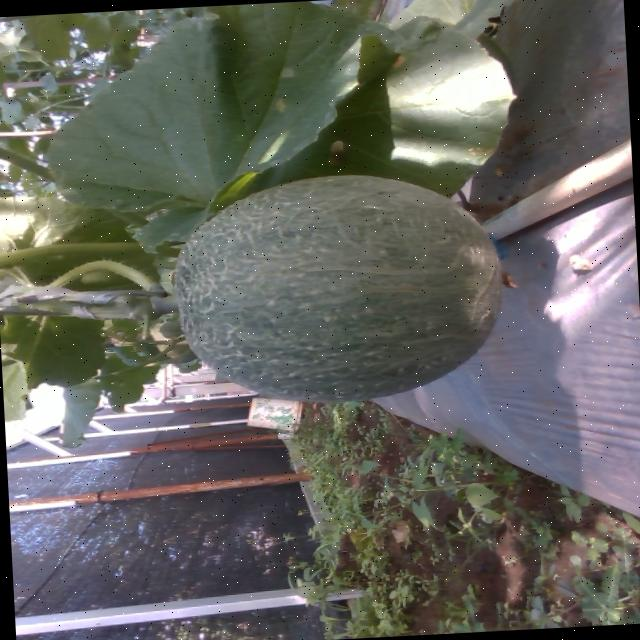melon: (175, 173, 501, 401)
